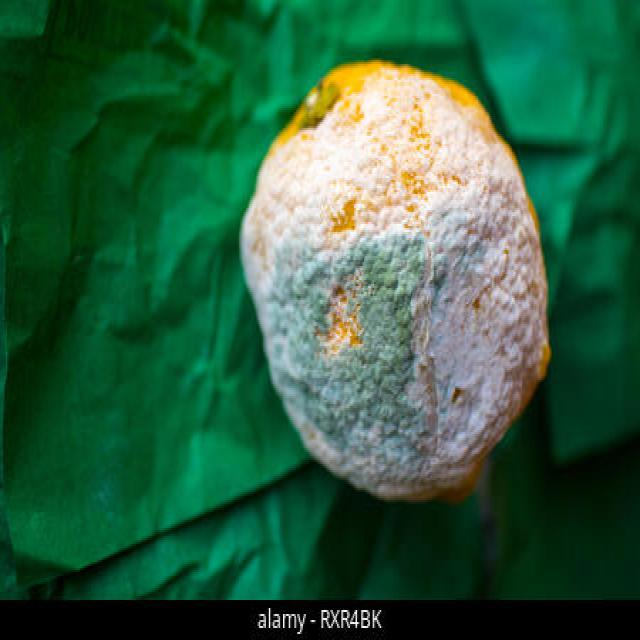Rotten: (237, 58, 553, 504)
